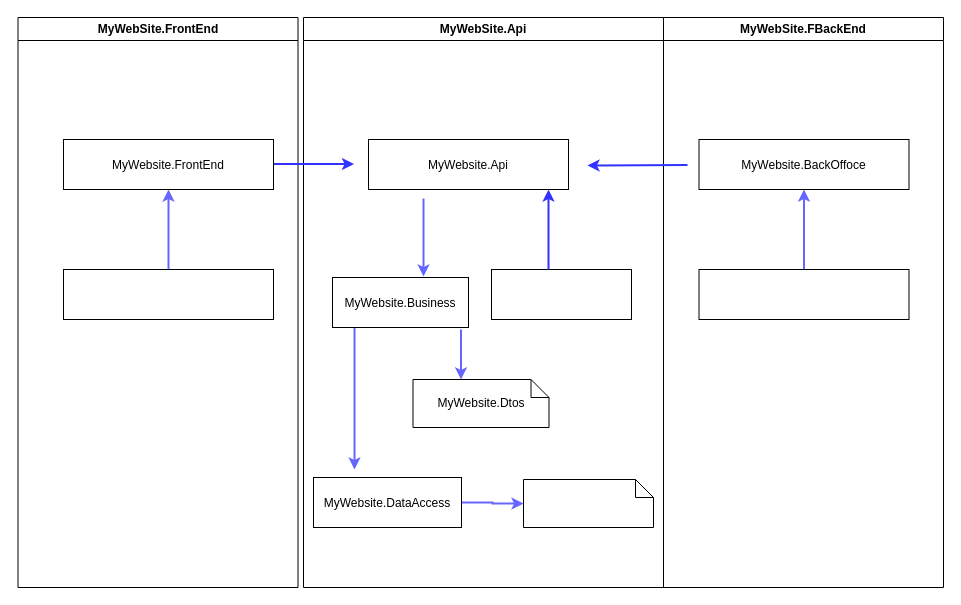
Image size: 961x605. Some labels were removed from this diagram. Here are the shapes that lost their labels. From the top down, the centre of each, then its label:
At [168,294]: "MyWebsite.FrontEnd.Tests".
At [561,294]: "MyWebsite.Api.Tests".
At [803,294]: "MyWebsite.BackOffoce.Tests".
At [588,503]: "MyWebsite.Model".
